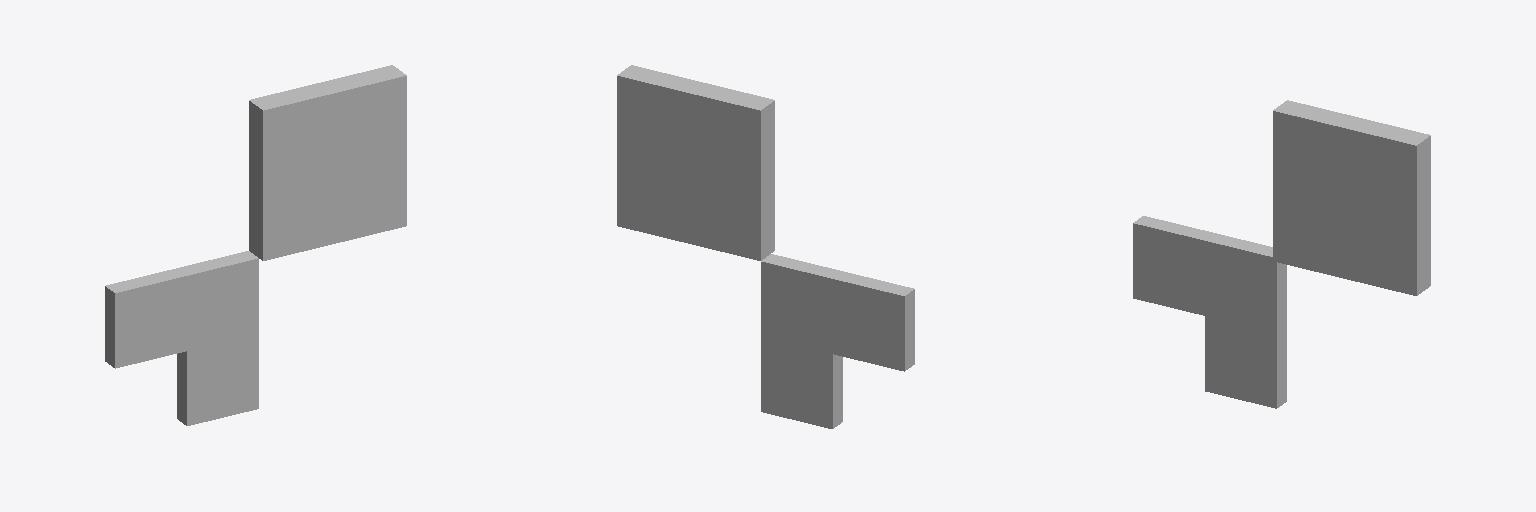
Rendered from zom_dah_floor_parquet_hole.obj.
3 views of the same model, side by side, from view 1: azimuth 30°, elevation 25°; view 2: azimuth 150°, elevation 25°; view 3: azimuth 330°, elevation 25° (orthographic).
Parts seen in each view (by area): view 1: c_box_006, c_box_004, c_box_005, co_culling, c_box_002, c_box_001; view 2: co_culling, c_box_004, c_box_005, c_box_002, c_box_003, c_box_006; view 3: c_box_006, c_box_004, c_box_005, co_culling, c_box_001.
Boxes of the visible parts, <box> form: c_box_006: <box>259,73,406,260</box>; c_box_004: <box>105,251,258,368</box>; c_box_005: <box>177,251,258,425</box>; co_culling: <box>249,65,402,253</box>; c_box_002: <box>249,91,293,252</box>; c_box_001: <box>255,72,401,257</box>; co_culling: <box>617,68,770,260</box>; c_box_004: <box>761,254,914,371</box>; c_box_005: <box>761,254,842,428</box>; c_box_002: <box>725,94,770,260</box>; c_box_003: <box>617,189,770,259</box>; c_box_006: <box>628,65,774,252</box>; c_box_006: <box>1273,108,1420,295</box>; c_box_004: <box>1133,216,1286,333</box>; c_box_005: <box>1205,239,1286,408</box>; co_culling: <box>1277,100,1430,290</box>; c_box_001: <box>1289,110,1424,292</box>.
Size of the model in its own units: 800 by 800 by 70.